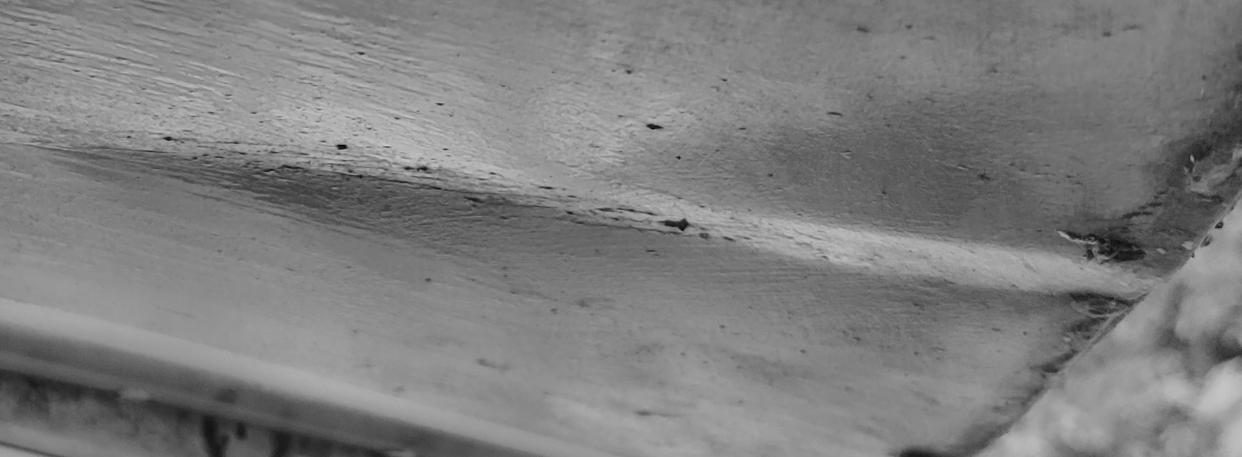dent: (1, 0, 1242, 457)
